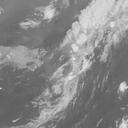cyclone: (44, 42, 101, 99)
